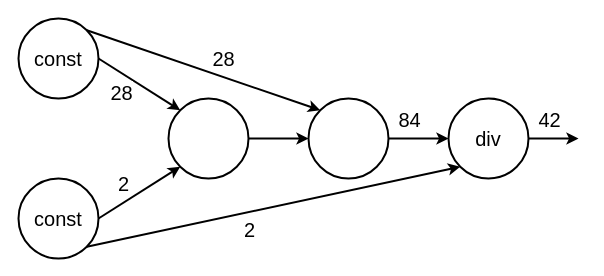
The diagram is 604 pixels wide and 276 high, and some of its shapes have lost their labels. The box of each missing label's shape, as (x1, y1, x2, y2) in pixels:
add: (307, 97, 389, 179)
mul: (167, 97, 249, 179)
